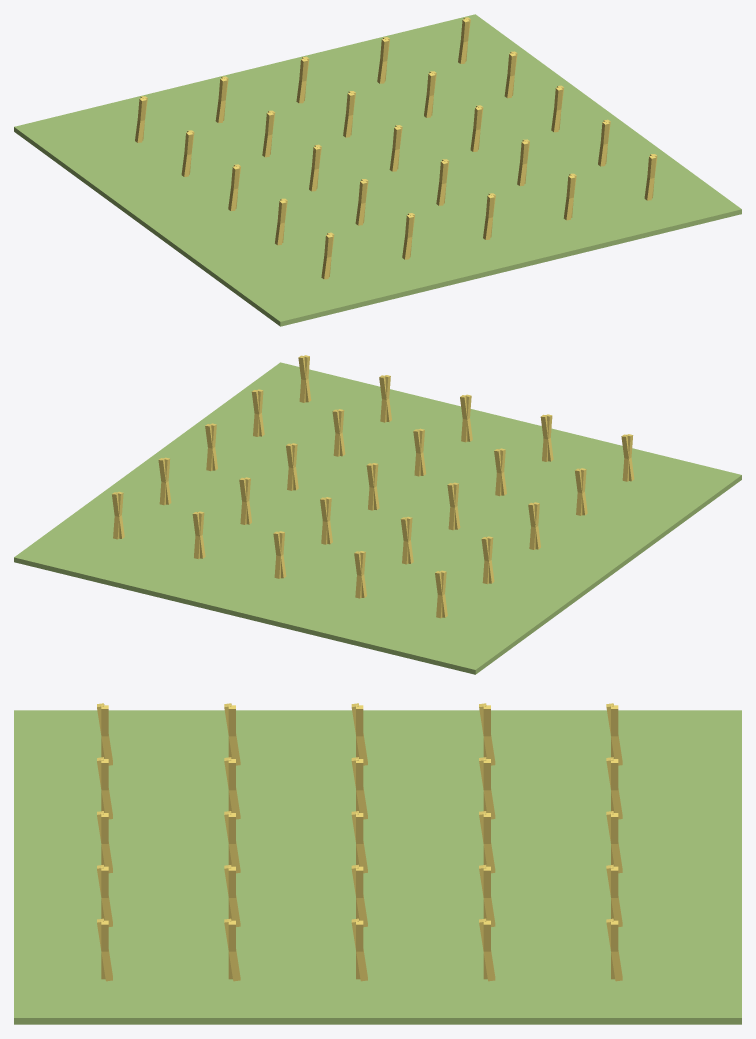
The model's file is SM_Env_WheatField_01.glb.
The picture shows the model from 3 angles, top to bottom: view 1: azimuth 30°, elevation 25°; view 2: azimuth 150°, elevation 25°; view 3: azimuth 270°, elevation 25°; orthographic projection. The views are drawn at different scales.
Parts seen in each view (by area): view 1: SM_Wheat_Soil; view 2: SM_Wheat_Soil; view 3: SM_Wheat_Soil.
Part boxes in pixels (bbox=[...]): SM_Wheat_Soil: bbox=[14, 14, 741, 326]; SM_Wheat_Soil: bbox=[14, 362, 741, 674]; SM_Wheat_Soil: bbox=[14, 710, 741, 1024].
Size of the model in its own units: 4 by 0.401 by 4.
